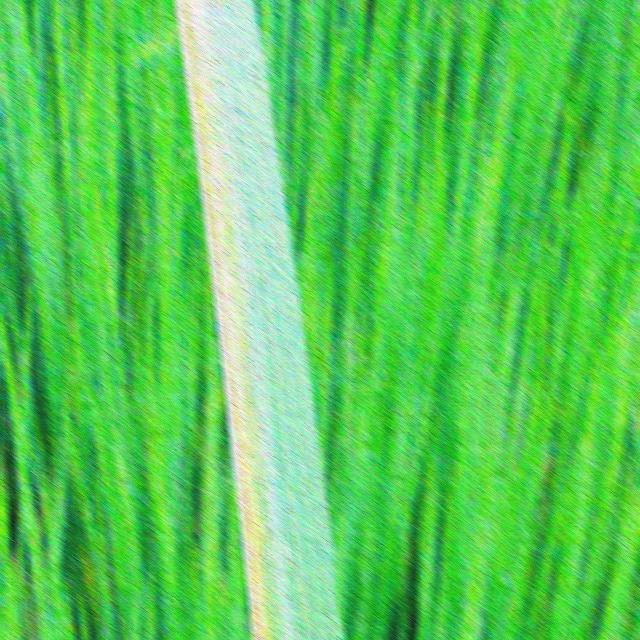BLB: (175, 0, 264, 640)
